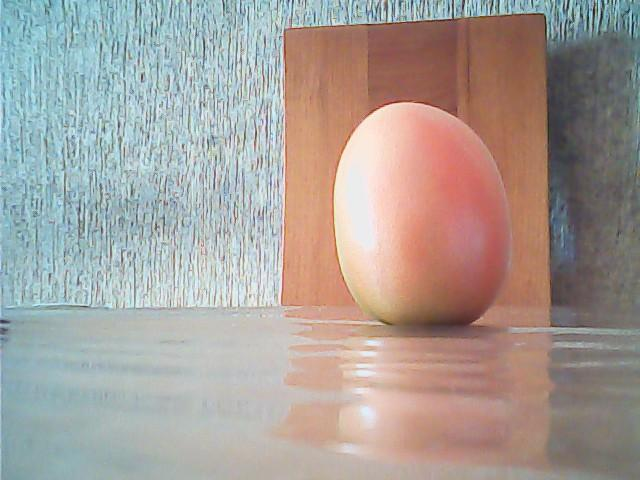verde: (333, 103, 511, 332)
